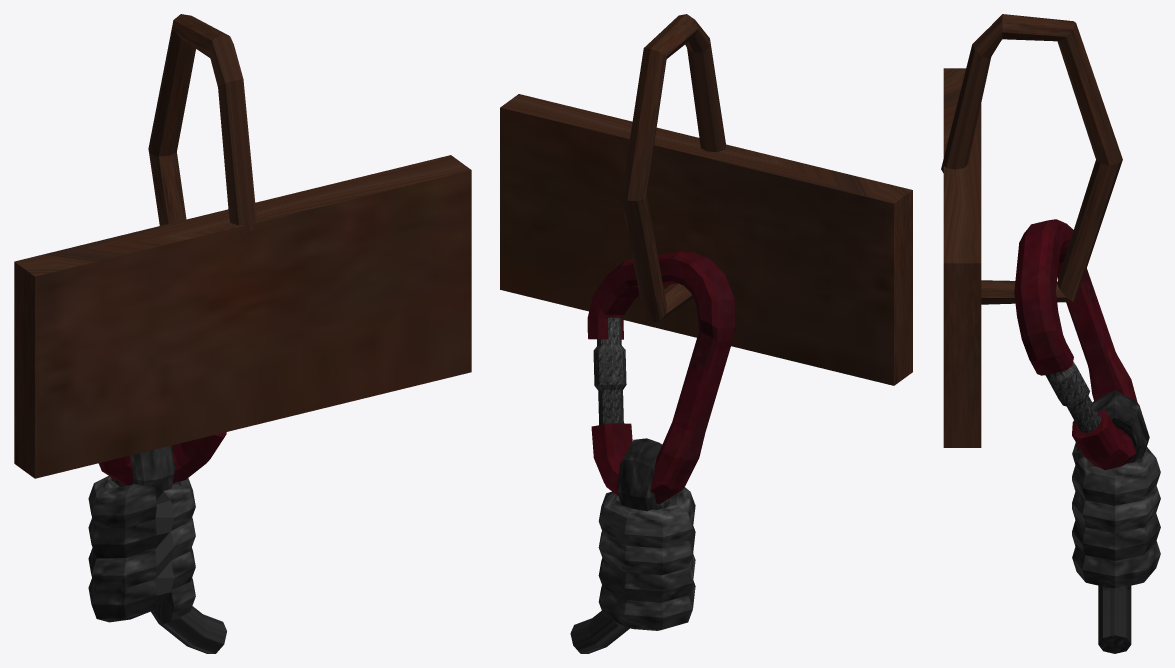
Rendered from Enganche1 Smooth.fbx.
3 views of the same model, side by side, from view 1: azimuth 30°, elevation 25°; view 2: azimuth 150°, elevation 25°; view 3: azimuth 270°, elevation 25° (orthographic). The views are drawn at different scales.
Visible parts, largest first — view 1: Cube.002, Torus.002, Cube.003; view 2: Cube.002, Torus.002, Cube.003, Cube.001; view 3: Cube.002, Torus.002, Cube.003, Cube.001.
Boxes of the visible parts, x1,y1,x2,y2 form: Cube.002: (14,14,471,478); Torus.002: (88,445,226,653); Cube.003: (98,432,226,485); Cube.002: (500,14,912,385); Torus.002: (570,438,695,653); Cube.003: (587,251,735,503); Cube.001: (593,317,626,425); Cube.002: (941,14,1122,447); Torus.002: (1072,390,1160,653); Cube.003: (1014,219,1137,470); Cube.001: (1045,361,1101,432).
Size of the model in its own units: 2116 by 3130 by 1009.
